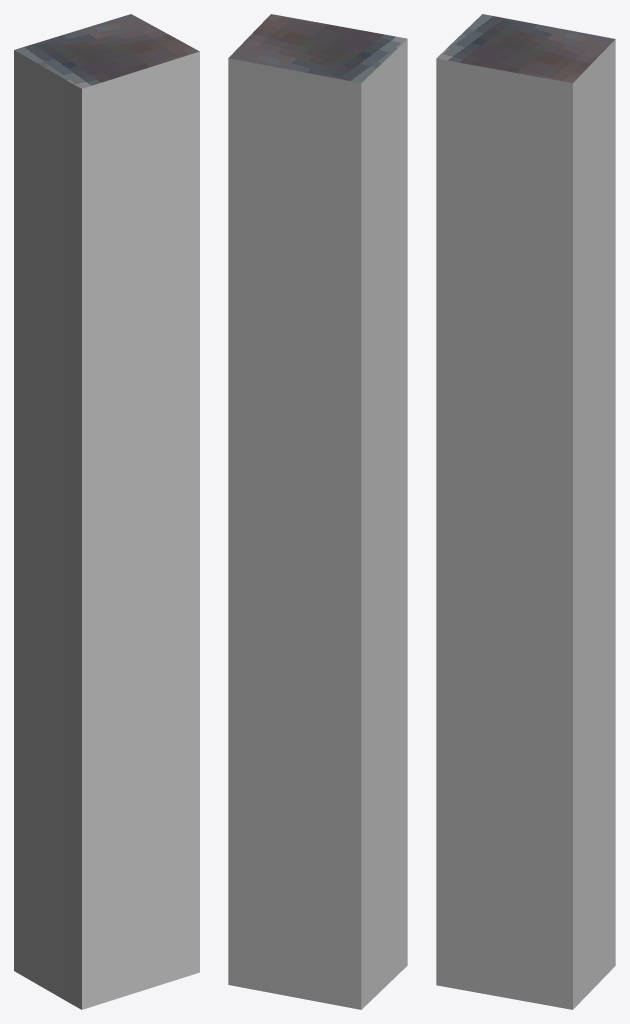
Rendered from DEBW_0010007THvj.gltf.
3 views of the same model, side by side, from view 1: azimuth 30°, elevation 25°; view 2: azimuth 150°, elevation 25°; view 3: azimuth 330°, elevation 25° (orthographic).
Parts seen in each view (by area): view 1: Z_UP; view 2: Z_UP; view 3: Z_UP.
Part boxes in pixels (left/top/right/bottom): Z_UP: left=14, top=14, right=199, bottom=1009; Z_UP: left=228, top=14, right=407, bottom=1009; Z_UP: left=436, top=14, right=615, bottom=1009.
Size of the model in its own units: 2.52 by 16.09 by 2.04.
2 materials, 1 textured.
